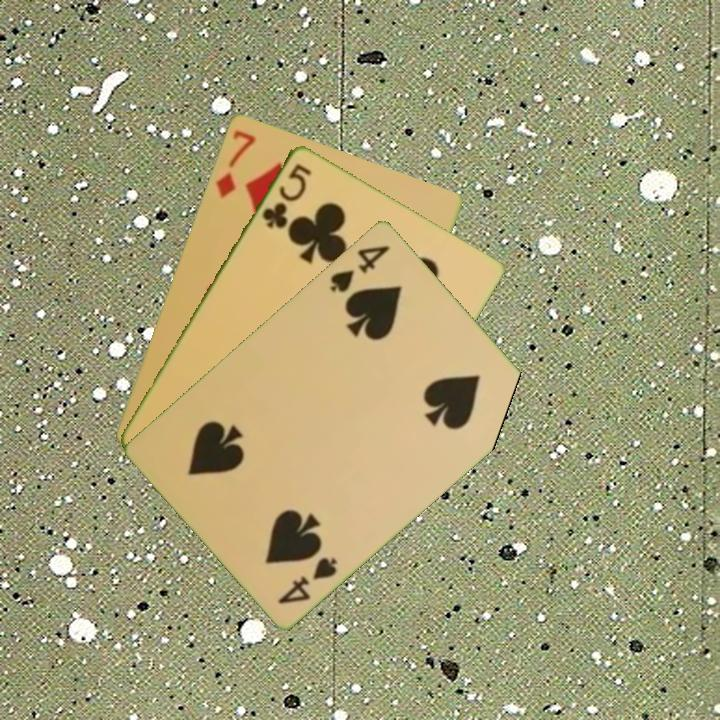4s: (326, 241, 393, 295), (274, 553, 341, 607)
5c: (258, 159, 314, 231)
7d: (211, 126, 259, 201)
